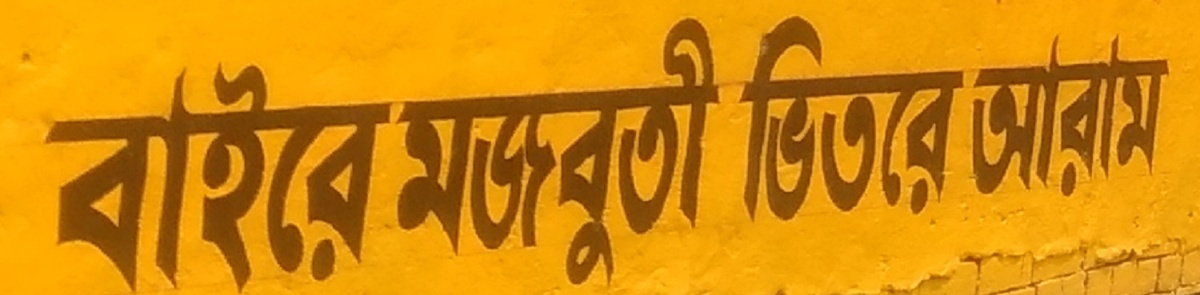text: (401, 12, 416, 292), (417, 12, 432, 292), (433, 12, 448, 292), (449, 12, 464, 292), (465, 12, 480, 292), (481, 12, 496, 292), (497, 12, 512, 292), (513, 12, 528, 292), (529, 12, 544, 292), (545, 12, 560, 292), (561, 12, 576, 292), (577, 12, 592, 292), (593, 12, 608, 292), (609, 12, 624, 292), (625, 12, 640, 292), (641, 12, 656, 292), (657, 12, 672, 292), (673, 12, 688, 292), (689, 12, 704, 292), (705, 12, 720, 292), (49, 37, 64, 295), (65, 37, 80, 295), (81, 37, 96, 295), (97, 37, 112, 295), (113, 37, 128, 295), (129, 37, 144, 295), (145, 37, 160, 295), (161, 37, 176, 295), (177, 37, 192, 295), (193, 37, 208, 295), (209, 37, 224, 295), (225, 37, 240, 295), (241, 37, 256, 295), (257, 37, 272, 295), (273, 37, 288, 295), (289, 37, 304, 295), (305, 37, 320, 295), (321, 37, 336, 295), (337, 37, 352, 295), (353, 37, 368, 295), (369, 37, 384, 295), (753, 13, 768, 228), (769, 13, 784, 228), (785, 13, 800, 228), (801, 13, 816, 228), (817, 13, 832, 228), (833, 13, 848, 228), (849, 13, 864, 228), (865, 13, 880, 228), (881, 13, 896, 228), (897, 13, 912, 228), (913, 13, 928, 228), (929, 13, 944, 228), (945, 13, 960, 228), (993, 25, 1008, 211), (1009, 25, 1024, 211), (1025, 25, 1040, 211), (1041, 25, 1056, 211), (1057, 25, 1072, 211), (1073, 25, 1088, 211), (1089, 25, 1104, 211), (1105, 25, 1120, 211), (1121, 25, 1136, 211), (1137, 25, 1152, 211), (1153, 25, 1168, 211), (980, 25, 992, 211), (961, 13, 971, 228), (385, 37, 393, 295), (394, 12, 400, 292), (721, 12, 726, 292), (1169, 25, 1175, 211), (747, 13, 752, 228), (44, 37, 48, 295)
